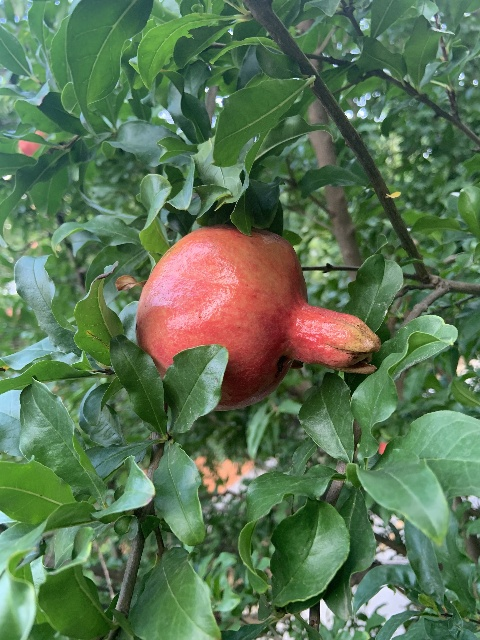ripe: (135, 226, 379, 409)
